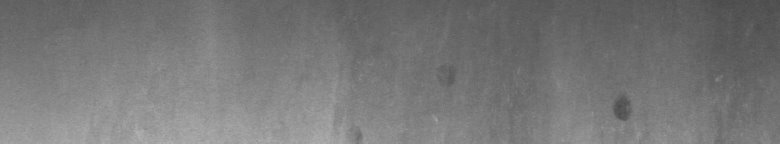fi: (609, 88, 632, 131)
